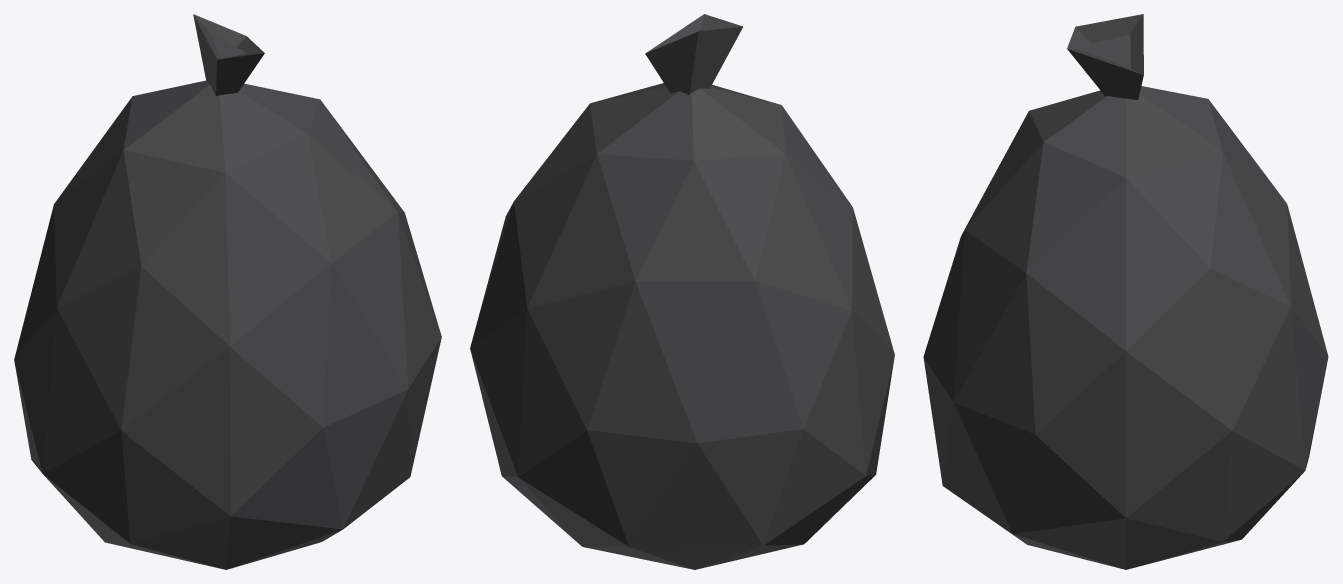
The model's file is SM_sack_garbage_01.fbx.
3 views of the same model, side by side, from view 1: azimuth 30°, elevation 25°; view 2: azimuth 150°, elevation 25°; view 3: azimuth 270°, elevation 25° (orthographic).
Parts seen in each view (by area): view 1: GeoSphere001; view 2: GeoSphere001; view 3: GeoSphere001.
Part boxes in pixels (left/top/right/bottom): GeoSphere001: left=14, top=14, right=441, bottom=569; GeoSphere001: left=470, top=14, right=894, bottom=569; GeoSphere001: left=923, top=14, right=1328, bottom=569.
Bounding box in the file's own units: 21.95 × 21.34 × 29.44.
